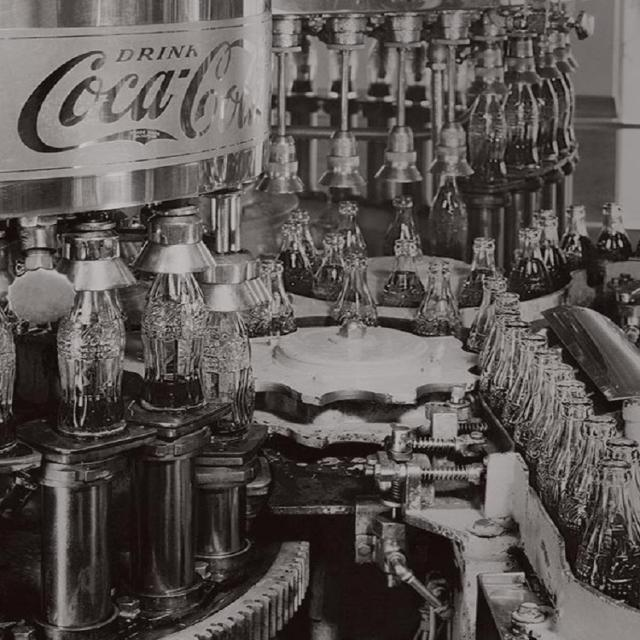coca cola: (18, 37, 260, 148)
